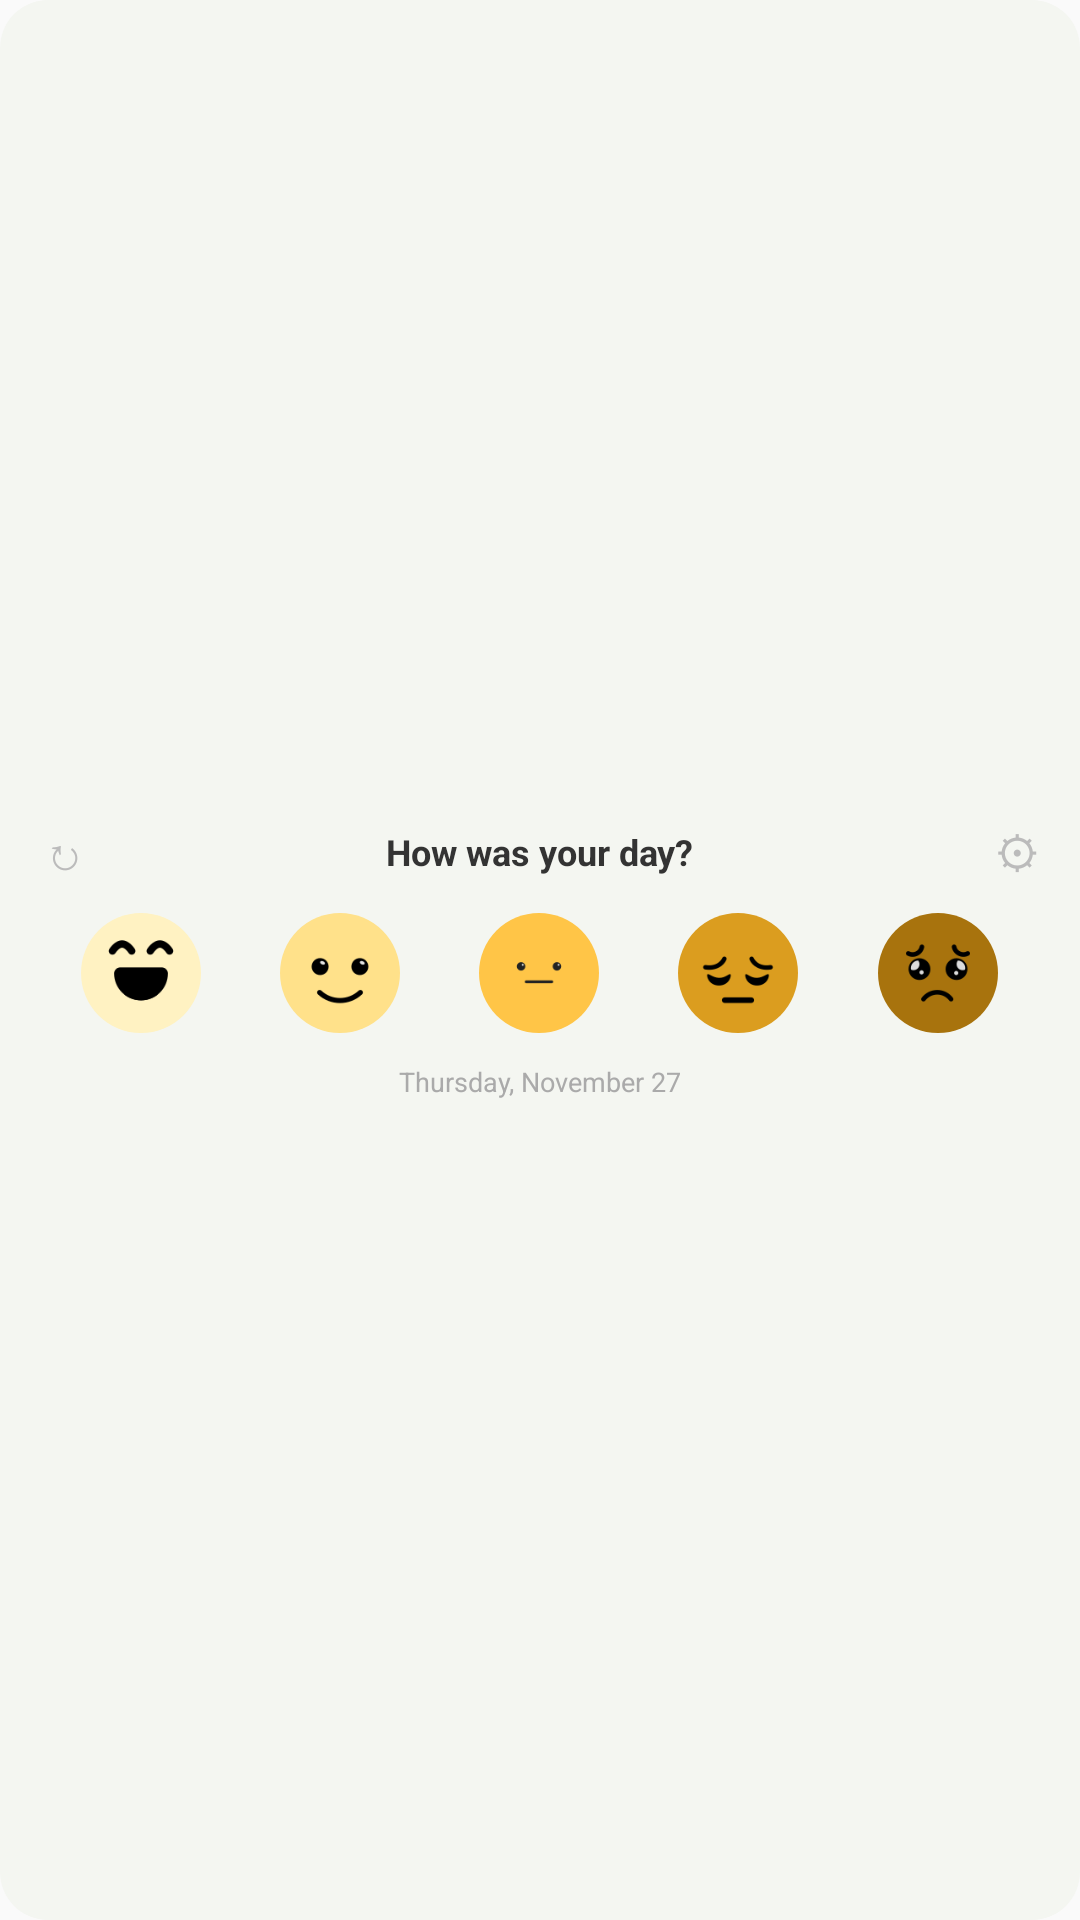

Where icons sit on this 1080 × 1920 app screen, as region(x1, y1, x2, y2):
happy: region(286, 919, 394, 1027)
neutral: region(485, 919, 593, 1027)
sad: region(684, 919, 792, 1027)
very happy: region(87, 919, 195, 1027)
very sad: region(884, 919, 992, 1027)
